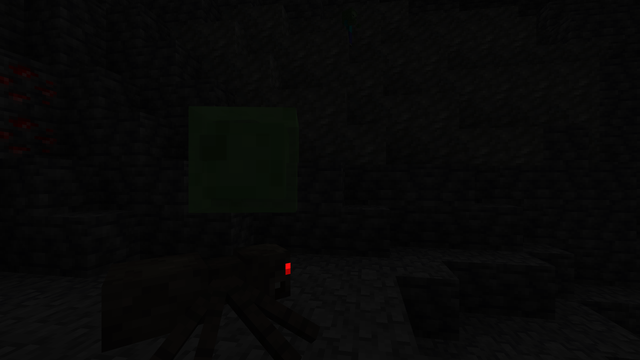araignees: (98, 232, 301, 359)
slimes: (180, 99, 307, 214)
zombies: (344, 13, 353, 47)
